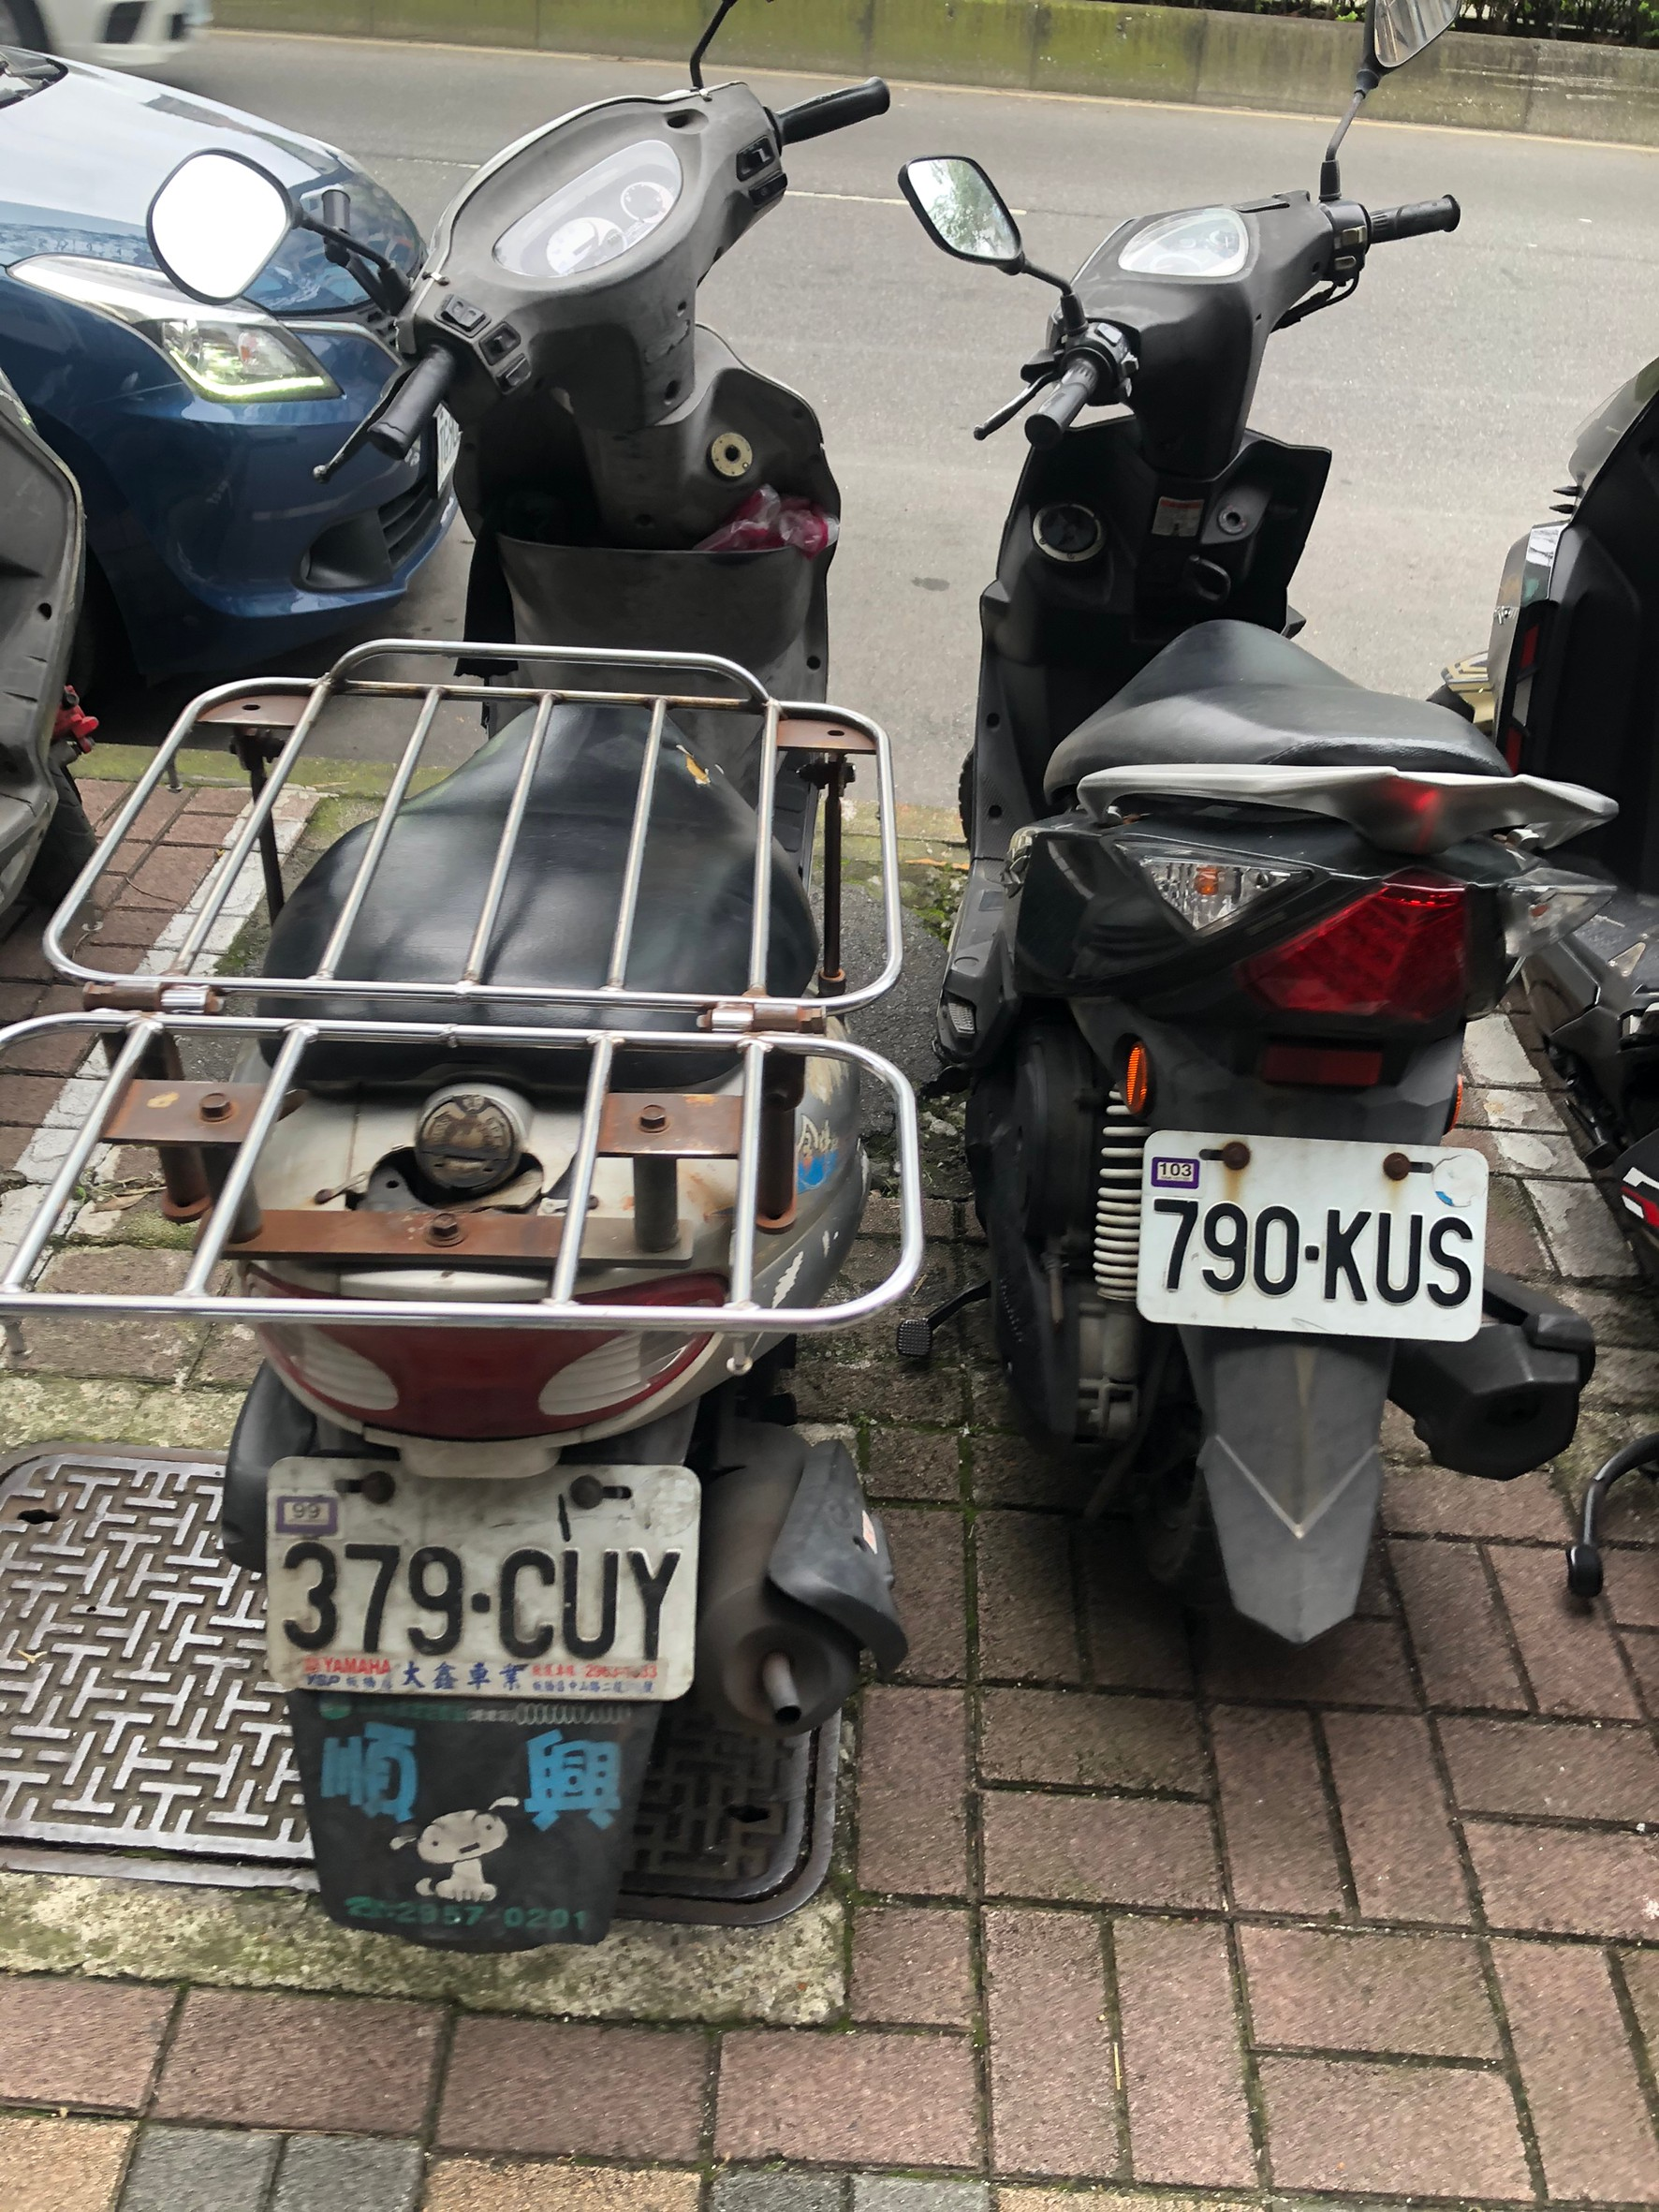LP: (261, 1452, 687, 1705), (1134, 1124, 1481, 1340)
